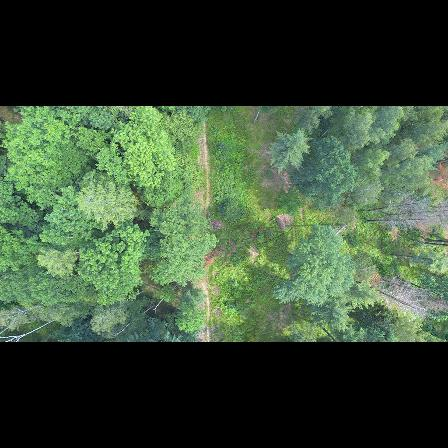Dead: (365, 213, 440, 229), (370, 287, 420, 309), (363, 199, 428, 215)
